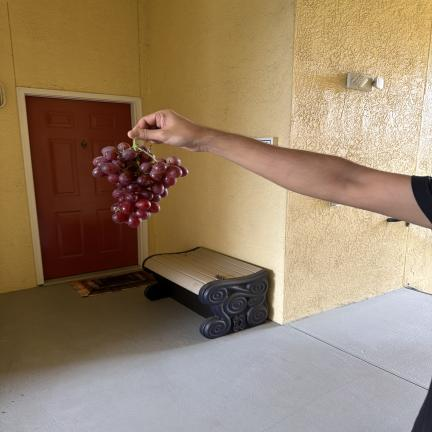grape_cluster: (92, 139, 189, 227)
